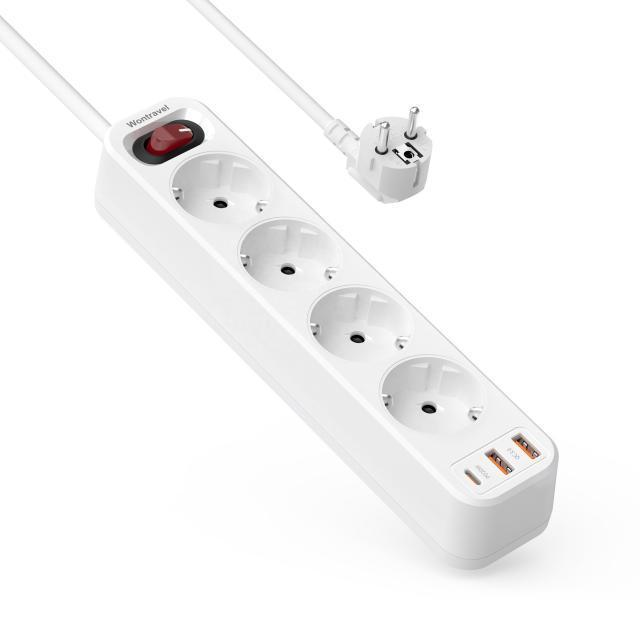typeb: (115, 137, 543, 563)
